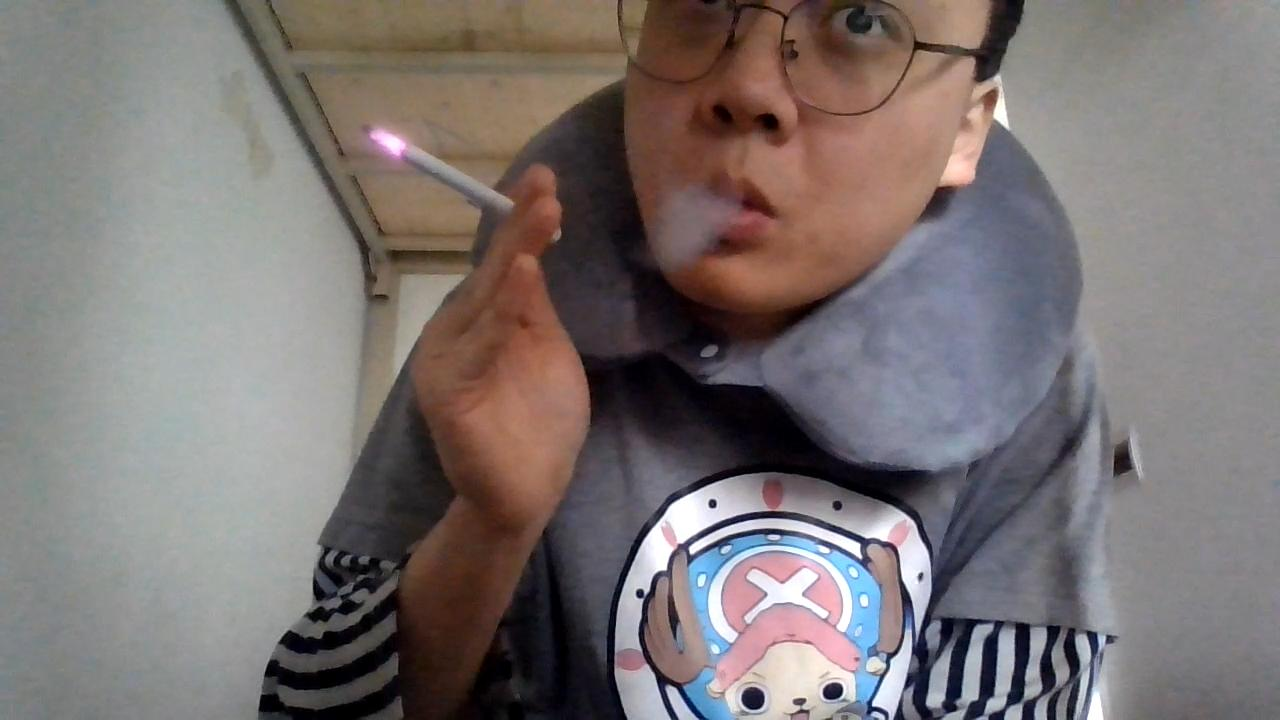yanwu: (658, 172, 752, 268)
